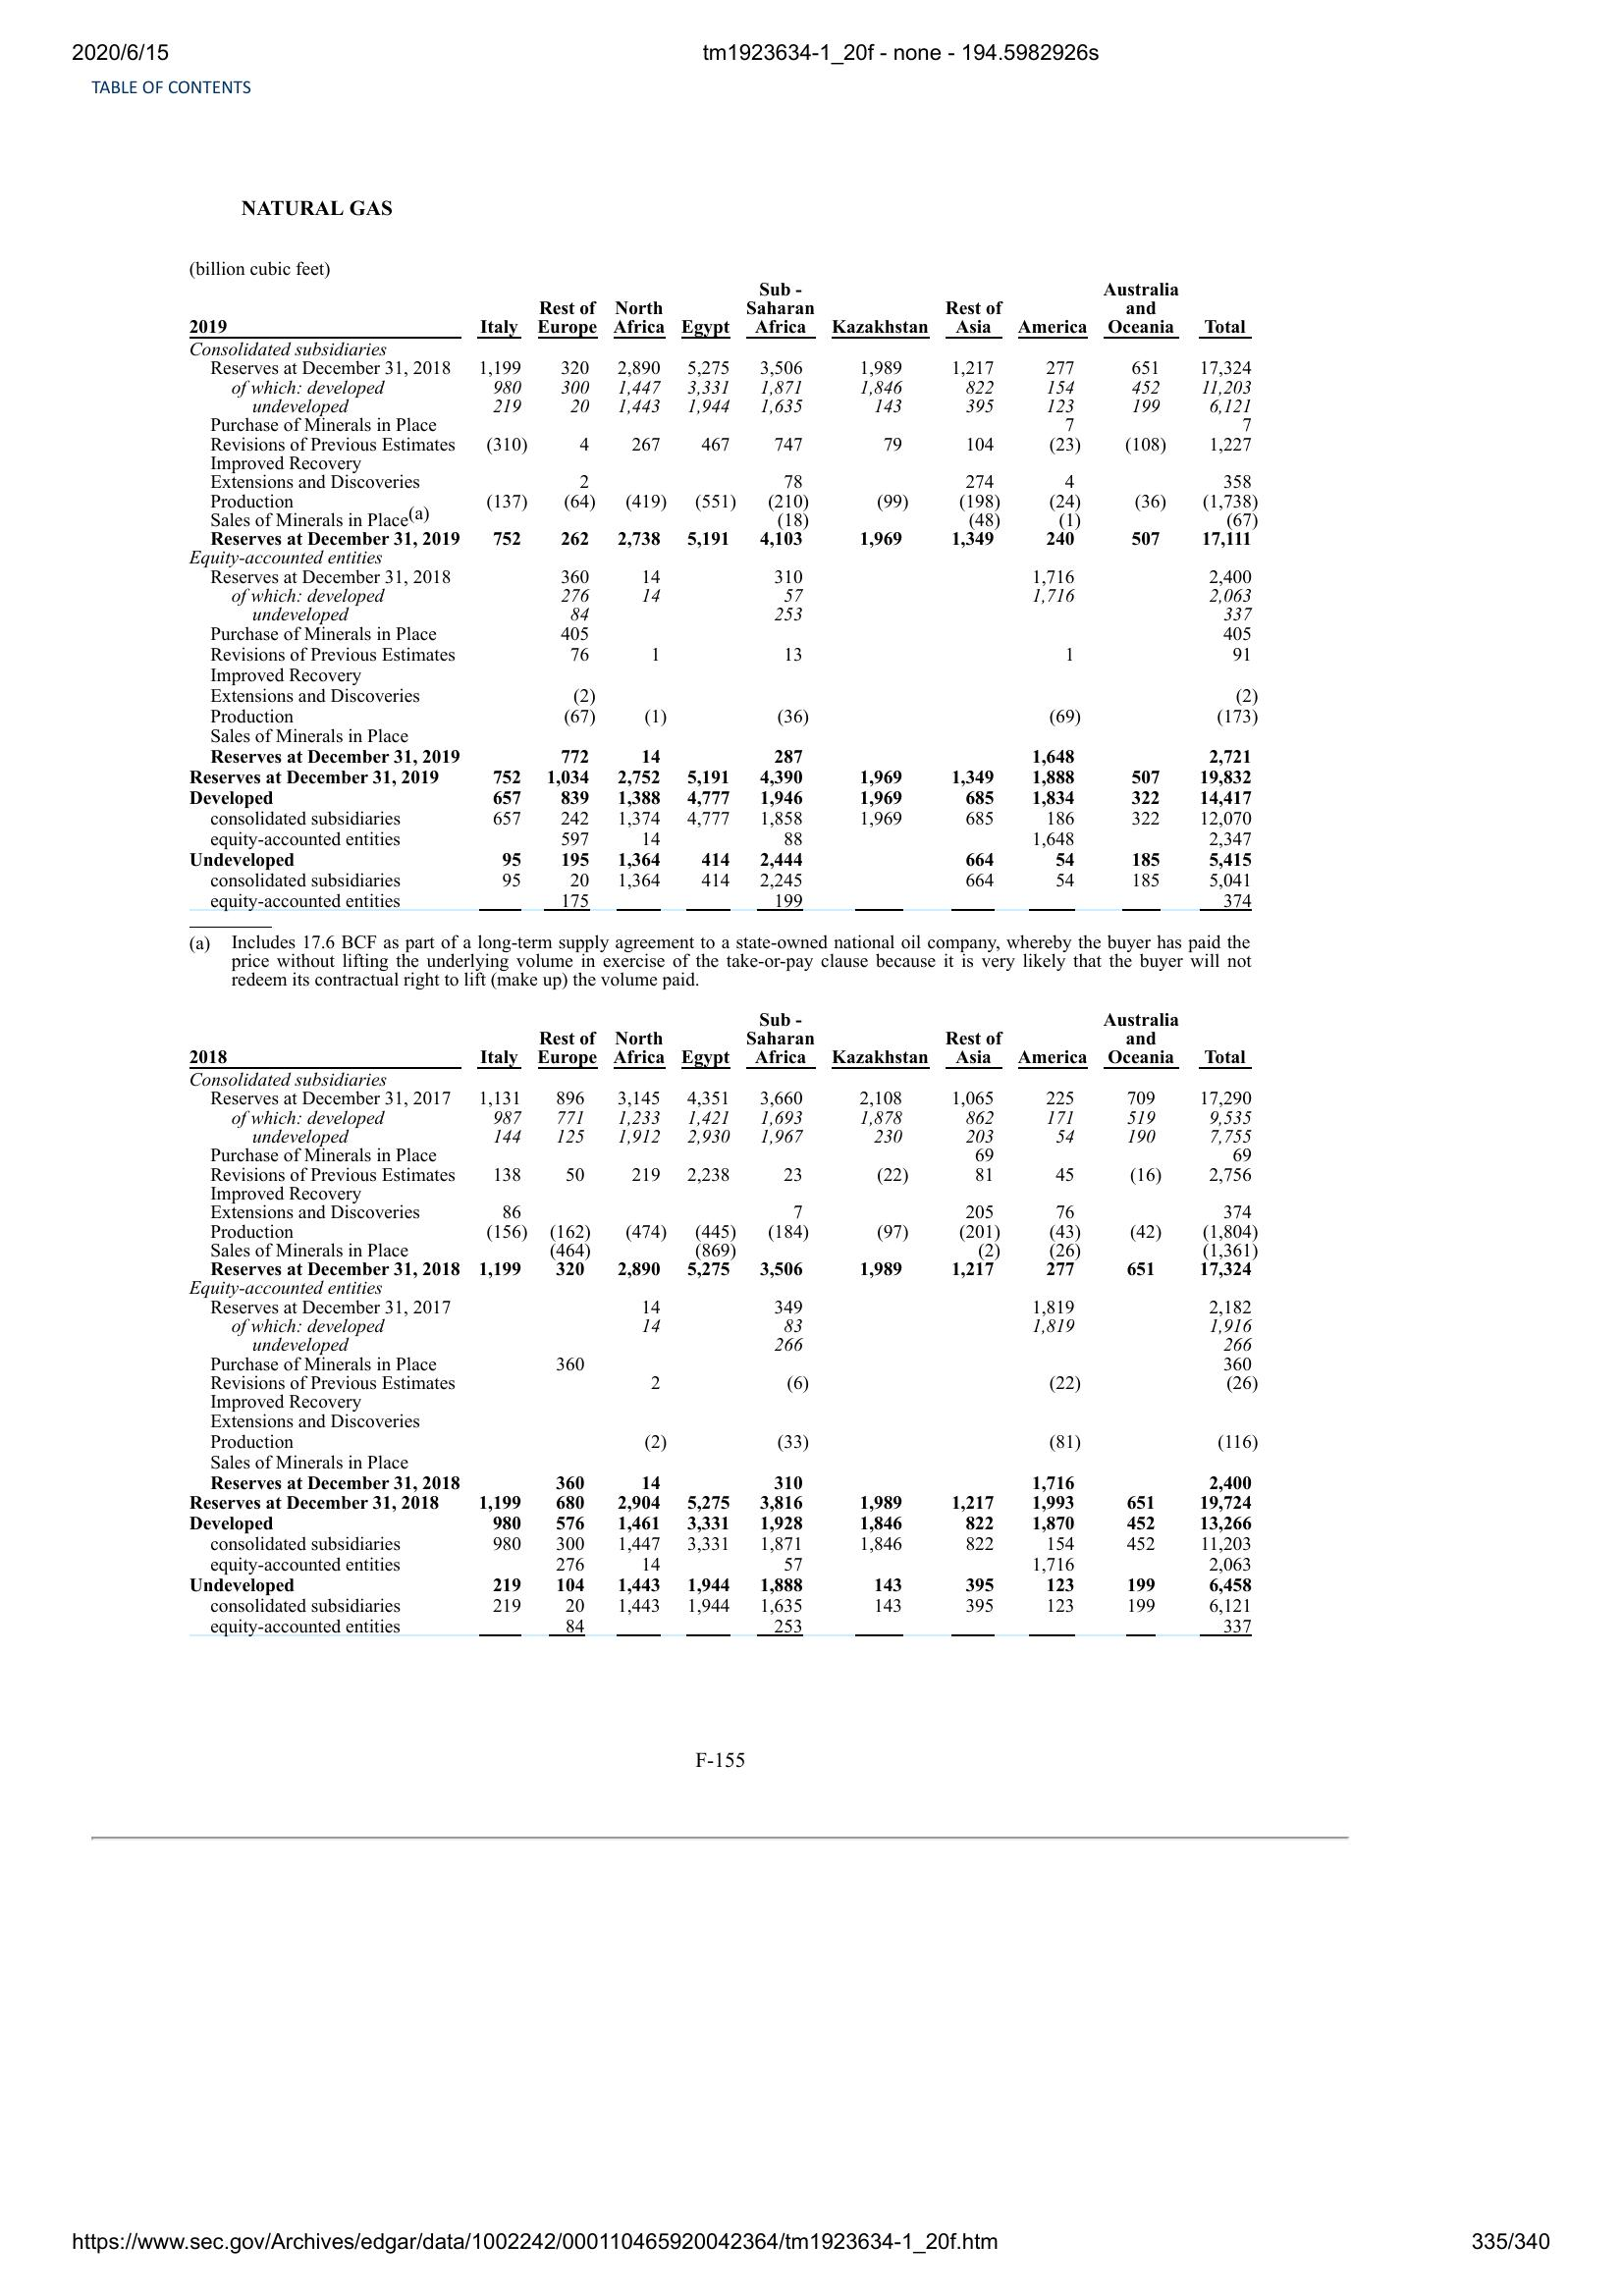table: (181, 281, 1261, 915), (179, 1009, 1259, 1643)
